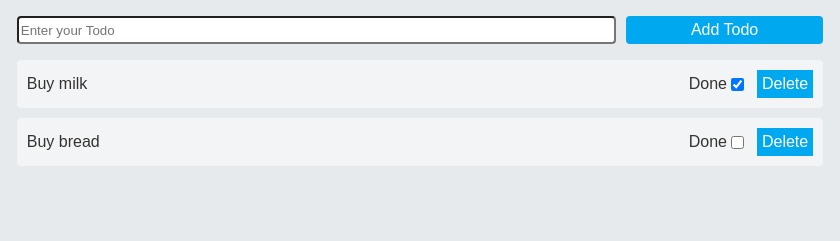
Test case: TodoApp › creates Todo
Type "TEST" into the field with test id "inputTodo" at (316, 30), box [17,16,616,44]
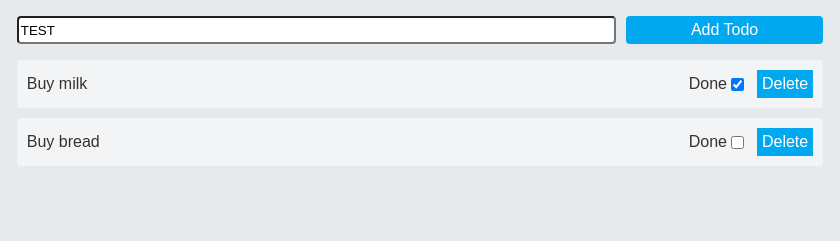
Submit the form from the field with test id "inputTodo", box [17,16,616,44]
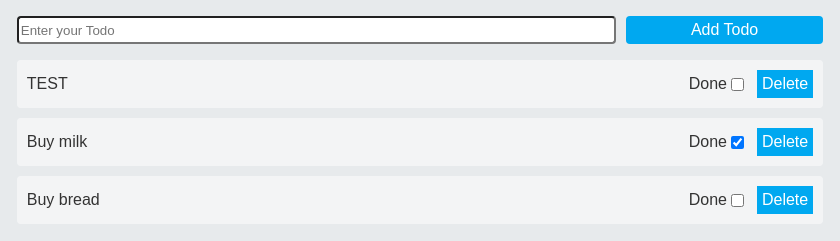
Now the text "TEST" is shown, box [27,75,68,93]
Now the checkbox with test id "toggle2" is not checked, box [731,78,744,90]
